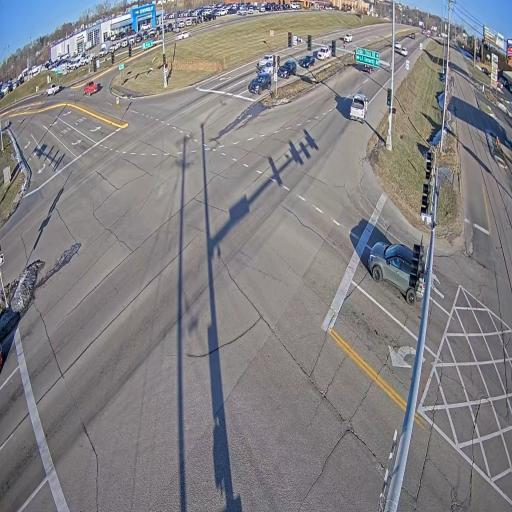pickup: (350, 93, 368, 123), (84, 81, 98, 95), (47, 83, 61, 96)
sedan: (248, 73, 272, 94), (299, 54, 315, 68)
suv: (368, 241, 425, 304), (278, 60, 296, 78), (258, 54, 274, 74), (317, 46, 331, 60), (344, 33, 353, 43), (398, 47, 407, 55), (394, 42, 402, 50), (409, 32, 415, 39)
